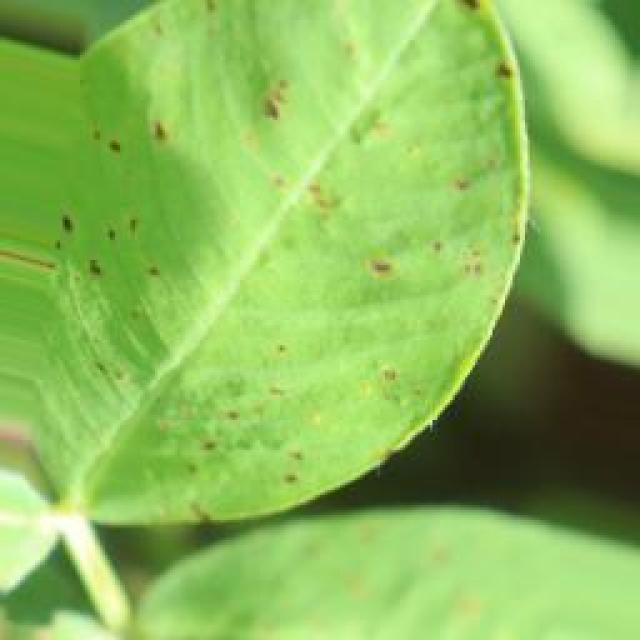Sigatoka: (31, 104, 207, 306), (168, 365, 332, 523), (401, 157, 517, 308), (428, 0, 526, 111), (225, 61, 297, 151), (343, 223, 414, 306), (348, 329, 416, 413), (292, 154, 342, 232)
